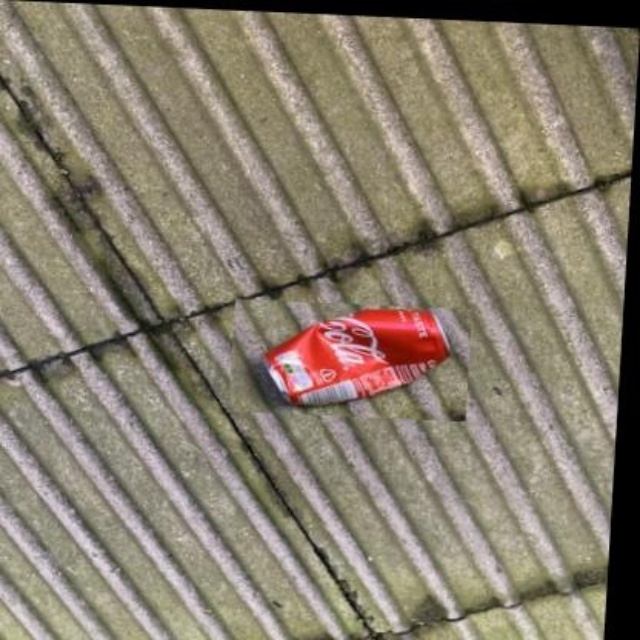trash: (263, 309, 448, 403)
